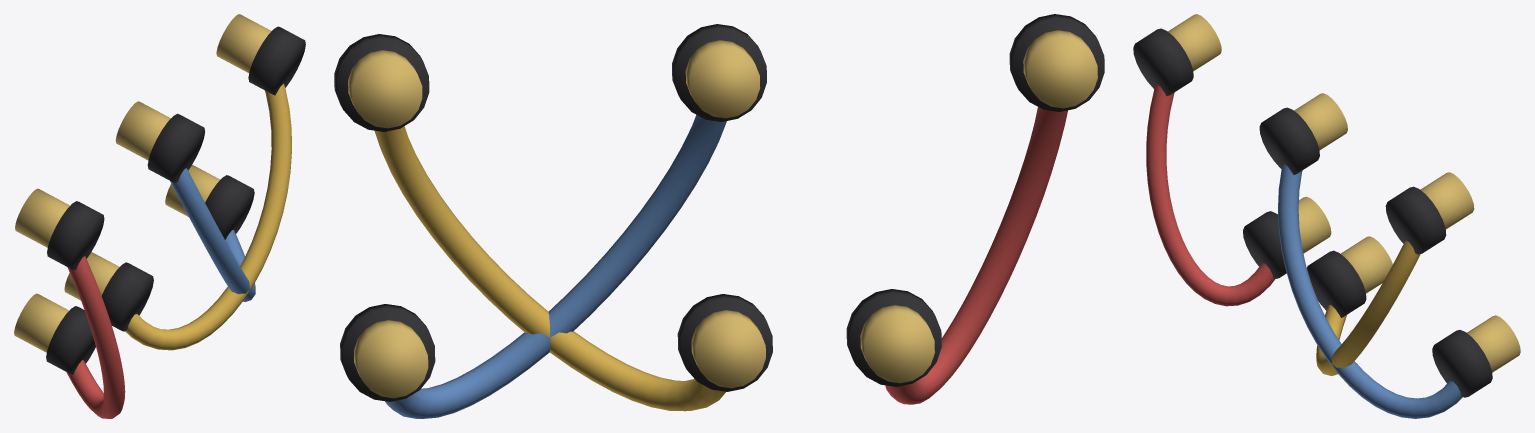
The picture shows the model from 3 angles, left to right: view 1: azimuth 30°, elevation 25°; view 2: azimuth 150°, elevation 25°; view 3: azimuth 270°, elevation 25°; orthographic projection. The views are drawn at different scales.
Parts seen in each view (by area): view 1: mqb_cord_party_2, mqb_cord_one_0, mqb_cord_party_1, mqb_plugcap_party_2_0, mqb_plugcap_one_0_0, mqb_plugcap_party_1_0, mqb_plugcap_party_2_1, mqb_plugcap_one_0_1, mqb_plugcap_party_1_1, mqb_plug_one_0_1, mqb_plug_one_0_0, mqb_plug_party_1_0 (+3 smaller); view 2: mqb_cord_party_1, mqb_cord_party_2, mqb_cord_one_0, mqb_plug_one_0_1, mqb_plug_party_2_0, mqb_plug_one_0_0, mqb_plug_party_2_1, mqb_plug_party_1_0, mqb_plug_party_1_1, mqb_plugcap_one_0_0, mqb_plugcap_one_0_1, mqb_plugcap_party_2_0 (+3 smaller); view 3: mqb_cord_party_1, mqb_cord_one_0, mqb_cord_party_2, mqb_plugcap_one_0_0, mqb_plugcap_party_2_0, mqb_plugcap_party_1_0, mqb_plugcap_party_1_1, mqb_plugcap_party_2_1, mqb_plugcap_one_0_1, mqb_plug_one_0_0, mqb_plug_party_2_0, mqb_plug_party_1_1 (+3 smaller).
Boxes of the visible parts, left/top/right/bottom form: mqb_cord_party_2: left=125, top=83, right=291, bottom=350; mqb_cord_one_0: left=66, top=256, right=125, bottom=418; mqb_cord_party_1: left=170, top=168, right=255, bottom=301; mqb_plugcap_party_2_0: left=248, top=26, right=305, bottom=95; mqb_plugcap_one_0_0: left=47, top=201, right=104, bottom=270; mqb_plugcap_party_1_0: left=147, top=113, right=205, bottom=182; mqb_plugcap_party_2_1: left=102, top=262, right=153, bottom=331; mqb_plugcap_one_0_1: left=46, top=306, right=95, bottom=374; mqb_plugcap_party_1_1: left=205, top=175, right=254, bottom=239; mqb_plug_one_0_1: left=14, top=293, right=69, bottom=352; mqb_plug_one_0_0: left=15, top=188, right=69, bottom=247; mqb_plug_party_1_0: left=115, top=101, right=170, bottom=160; mqb_cord_party_1: left=385, top=115, right=726, bottom=418; mqb_cord_party_2: left=374, top=126, right=725, bottom=411; mqb_cord_one_0: left=885, top=107, right=1067, bottom=404; mqb_plug_one_0_1: left=860, top=305, right=934, bottom=383; mqb_plug_party_2_0: left=348, top=50, right=422, bottom=128; mqb_plug_one_0_0: left=1023, top=30, right=1097, bottom=108; mqb_plug_party_2_1: left=691, top=310, right=765, bottom=388; mqb_plug_party_1_0: left=685, top=40, right=760, bottom=118; mqb_plug_party_1_1: left=354, top=320, right=428, bottom=398; mqb_plugcap_one_0_0: left=1009, top=14, right=1104, bottom=111; mqb_plugcap_one_0_1: left=846, top=289, right=941, bottom=386; mqb_plugcap_party_2_0: left=334, top=34, right=429, bottom=131; mqb_cord_party_1: left=1278, top=164, right=1462, bottom=418; mqb_cord_one_0: left=1146, top=84, right=1275, bottom=306; mqb_cord_party_2: left=1316, top=240, right=1420, bottom=375; mqb_plugcap_one_0_0: left=1133, top=28, right=1193, bottom=96; mqb_plugcap_party_2_0: left=1385, top=186, right=1446, bottom=254; mqb_plugcap_party_1_0: left=1259, top=107, right=1319, bottom=174; mqb_plugcap_party_1_1: left=1432, top=330, right=1492, bottom=397; mqb_plugcap_party_2_1: left=1307, top=250, right=1366, bottom=317; mqb_plugcap_one_0_1: left=1243, top=211, right=1286, bottom=278; mqb_plug_one_0_0: left=1168, top=14, right=1221, bottom=71; mqb_plug_party_2_0: left=1420, top=172, right=1474, bottom=229; mqb_plug_party_1_1: left=1467, top=315, right=1520, bottom=372.
Bounding box in the file's own units: 0.159 × 0.0962 × 0.1346.
